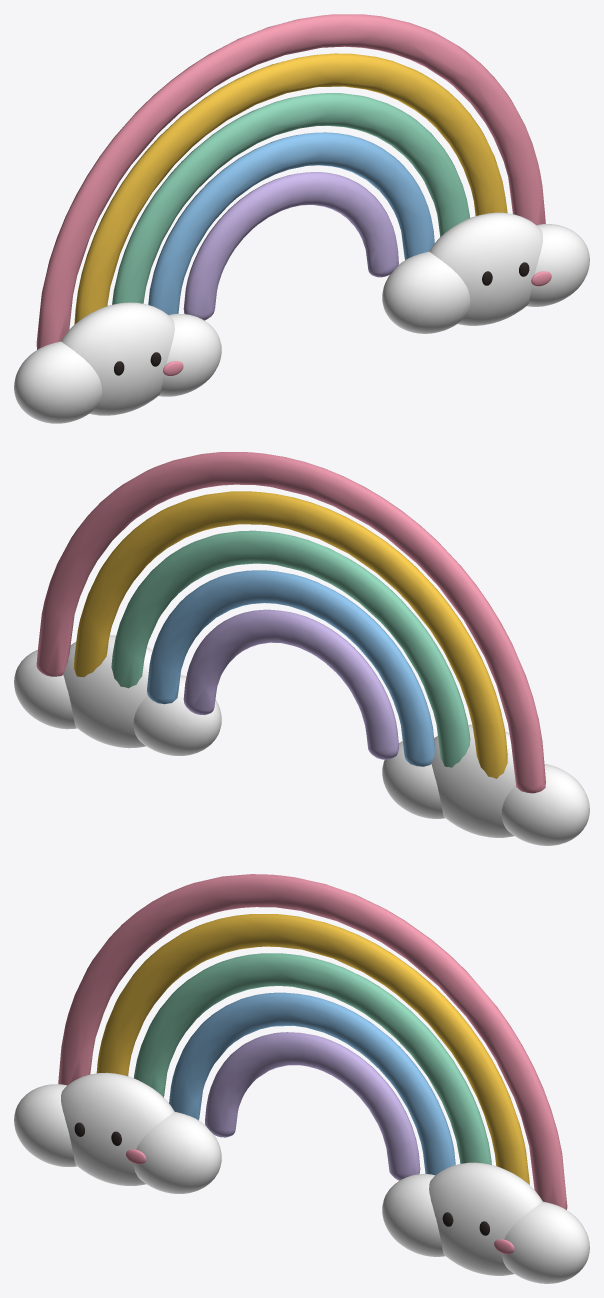
The model's file is deco_nube_arcoiris.glb.
3 views of the same model, one above another, from view 1: azimuth 30°, elevation 25°; view 2: azimuth 150°, elevation 25°; view 3: azimuth 330°, elevation 25° (orthographic).
Parts seen in each view (by area): view 1: arco 0.001, arco 1.001, arco 2.001, arco 3.001, arco 4.001, nube -1 0.001, nube 1 0.001, nube -1 1.001, nube 1 1.001, nube -1 2.001, nube 1 2.001; view 2: arco 0.001, arco 1.001, arco 2.001, arco 3.001, arco 4.001, nube 1 0.001, nube -1 0.001, nube -1 1.001, nube 1 1.001, nube 1 2.001, nube -1 2.001; view 3: arco 0.001, arco 1.001, arco 2.001, arco 3.001, arco 4.001, nube 1 0.001, nube -1 0.001, nube 1 2.001, nube -1 2.001, nube 1 1.001, nube -1 1.001.
Boxes of the visible parts, box(x1,y1,x2,y2) form: arco 0.001: box(36, 14, 545, 349); arco 1.001: box(74, 53, 507, 324); arco 2.001: box(112, 93, 470, 304); arco 3.001: box(148, 132, 434, 314); arco 4.001: box(183, 172, 398, 320); nube -1 0.001: box(61, 302, 174, 415); nube 1 0.001: box(429, 212, 542, 325); nube -1 1.001: box(14, 341, 102, 423); nube 1 1.001: box(382, 251, 470, 333); nube -1 2.001: box(159, 313, 221, 396); nube 1 2.001: box(527, 224, 589, 306); arco 0.001: box(36, 452, 545, 793); arco 1.001: box(73, 491, 507, 778); arco 2.001: box(111, 530, 470, 767); arco 3.001: box(147, 570, 434, 766); arco 4.001: box(183, 609, 398, 759); nube 1 0.001: box(63, 635, 152, 748); nube -1 0.001: box(431, 724, 515, 837); nube -1 1.001: box(501, 764, 589, 845); nube 1 1.001: box(133, 675, 221, 755); nube 1 2.001: box(14, 649, 76, 729); nube -1 2.001: box(382, 737, 445, 818); arco 0.001: box(58, 874, 567, 1209); arco 1.001: box(96, 914, 529, 1184); arco 2.001: box(134, 953, 491, 1164); arco 3.001: box(169, 992, 455, 1175); arco 4.001: box(205, 1032, 420, 1180); nube 1 0.001: box(429, 1162, 542, 1275); nube -1 0.001: box(61, 1072, 174, 1185); nube 1 2.001: box(502, 1201, 589, 1283); nube -1 2.001: box(133, 1112, 221, 1193); nube 1 1.001: box(382, 1174, 445, 1256); nube -1 1.001: box(14, 1084, 76, 1166).
Bounding box in the file's own units: 0.6181 × 0.3511 × 0.0741.
